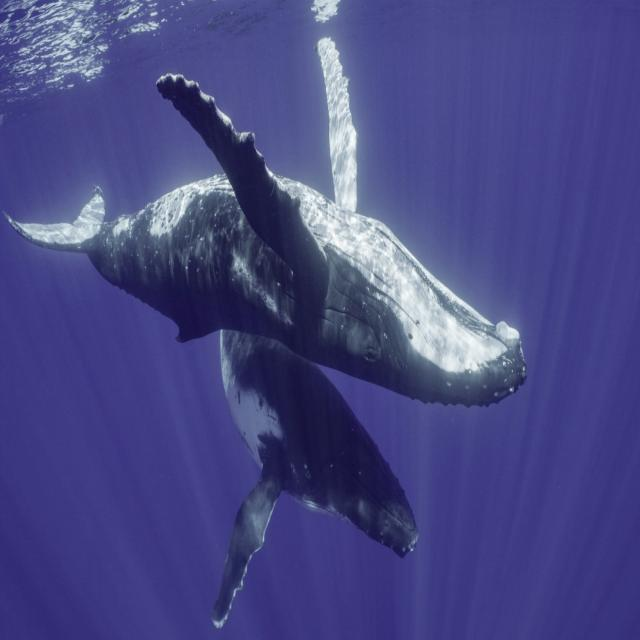whale: (3, 33, 530, 415), (209, 333, 417, 630)
